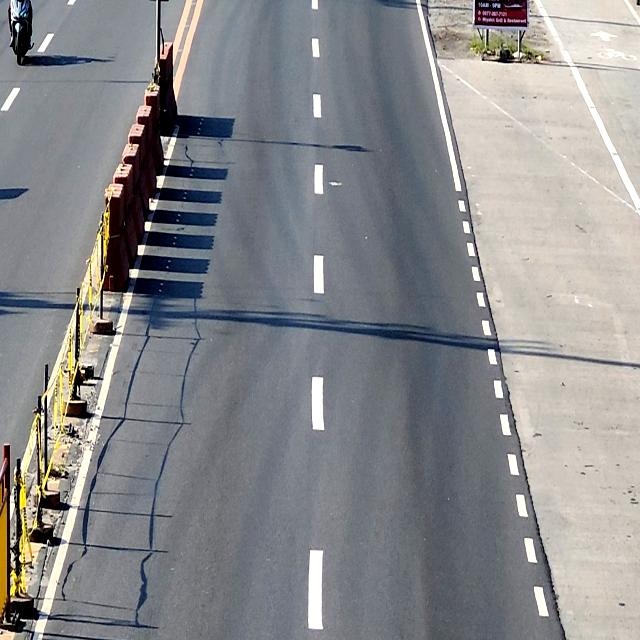Motorcycle: (9, 0, 33, 65)
